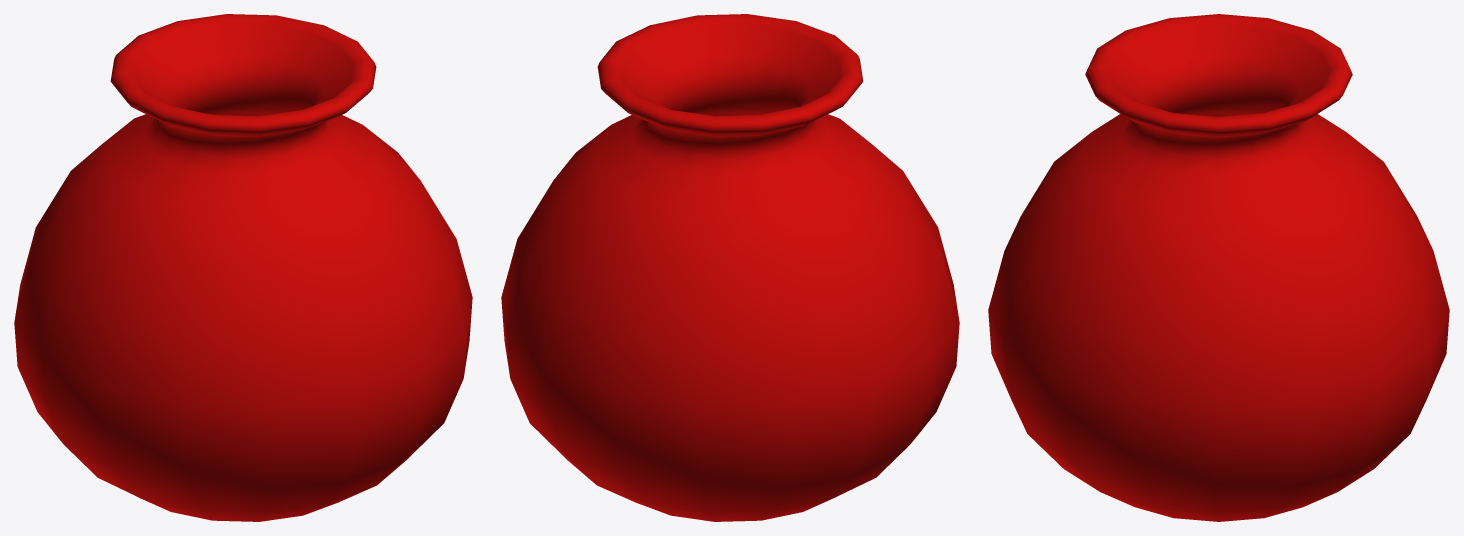
The model's file is Krug_var1.obj.
3 renders of one model, left to right at view 1: azimuth 30°, elevation 25°; view 2: azimuth 150°, elevation 25°; view 3: azimuth 270°, elevation 25°, orthographic.
Parts seen in each view (by area): view 1: Krug; view 2: Krug; view 3: Krug.
Boxes of the visible parts, x1,y1,x2,y2 form: Krug: (14, 14, 472, 521); Krug: (501, 14, 959, 521); Krug: (988, 14, 1449, 521).
Bounding box in the file's own units: 0.4045 × 0.4096 × 0.4045.
